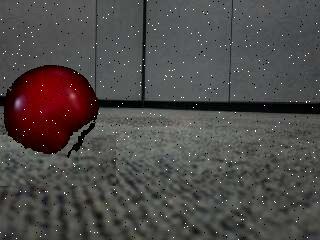Tomato: (3, 64, 103, 156)
